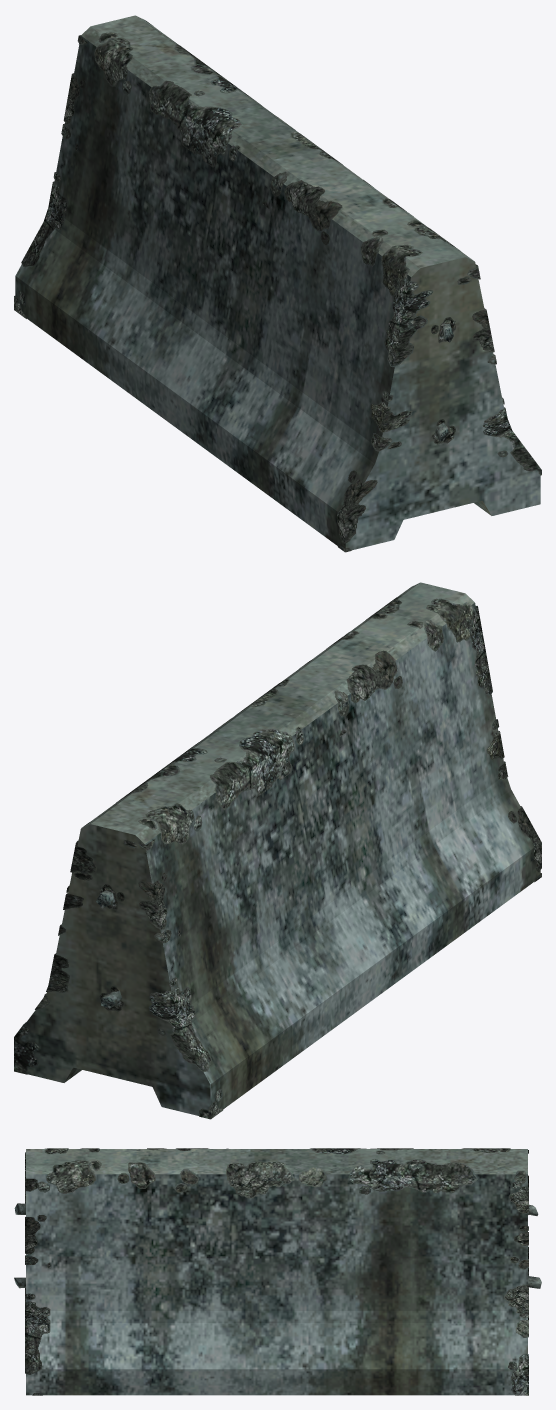
Rendered from Barricade02.FBX.
3 renders of one model, top to bottom at view 1: azimuth 30°, elevation 25°; view 2: azimuth 150°, elevation 25°; view 3: azimuth 270°, elevation 25°, orthographic. The views are drawn at different scales.
Visible parts, largest first — view 1: JerseyBarricade02:14, JerseyBarricade02:15; view 2: JerseyBarricade02:14, JerseyBarricade02:15; view 3: JerseyBarricade02:14, JerseyBarricade02:15.
Boxes of the visible parts, <box> form: JerseyBarricade02:14: <box>15,15,540,550</box>; JerseyBarricade02:15: <box>14,20,541,552</box>; JerseyBarricade02:14: <box>21,582,540,1115</box>; JerseyBarricade02:15: <box>14,595,541,1119</box>; JerseyBarricade02:14: <box>14,1149,541,1395</box>; JerseyBarricade02:15: <box>25,1148,528,1395</box>.
Bounding box in the file's own units: 0.4404 × 0.5699 × 1.35.
